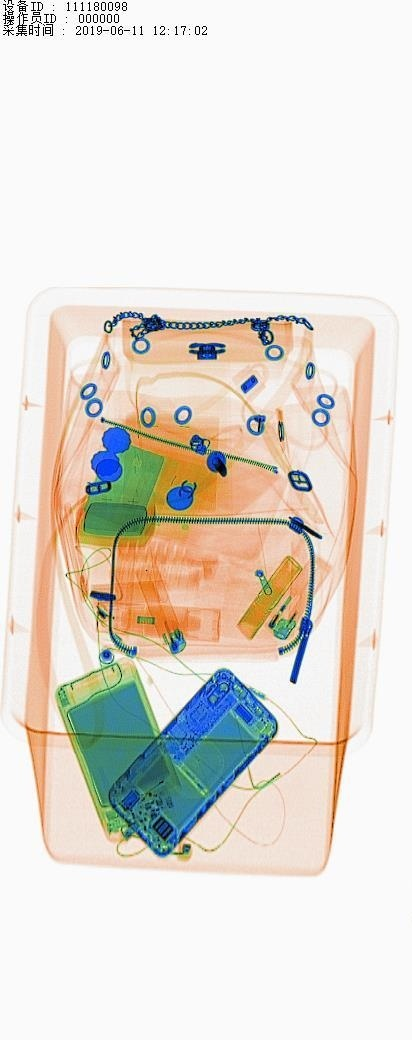NonmetallicFire: (262, 537, 354, 668), (128, 556, 202, 658)
